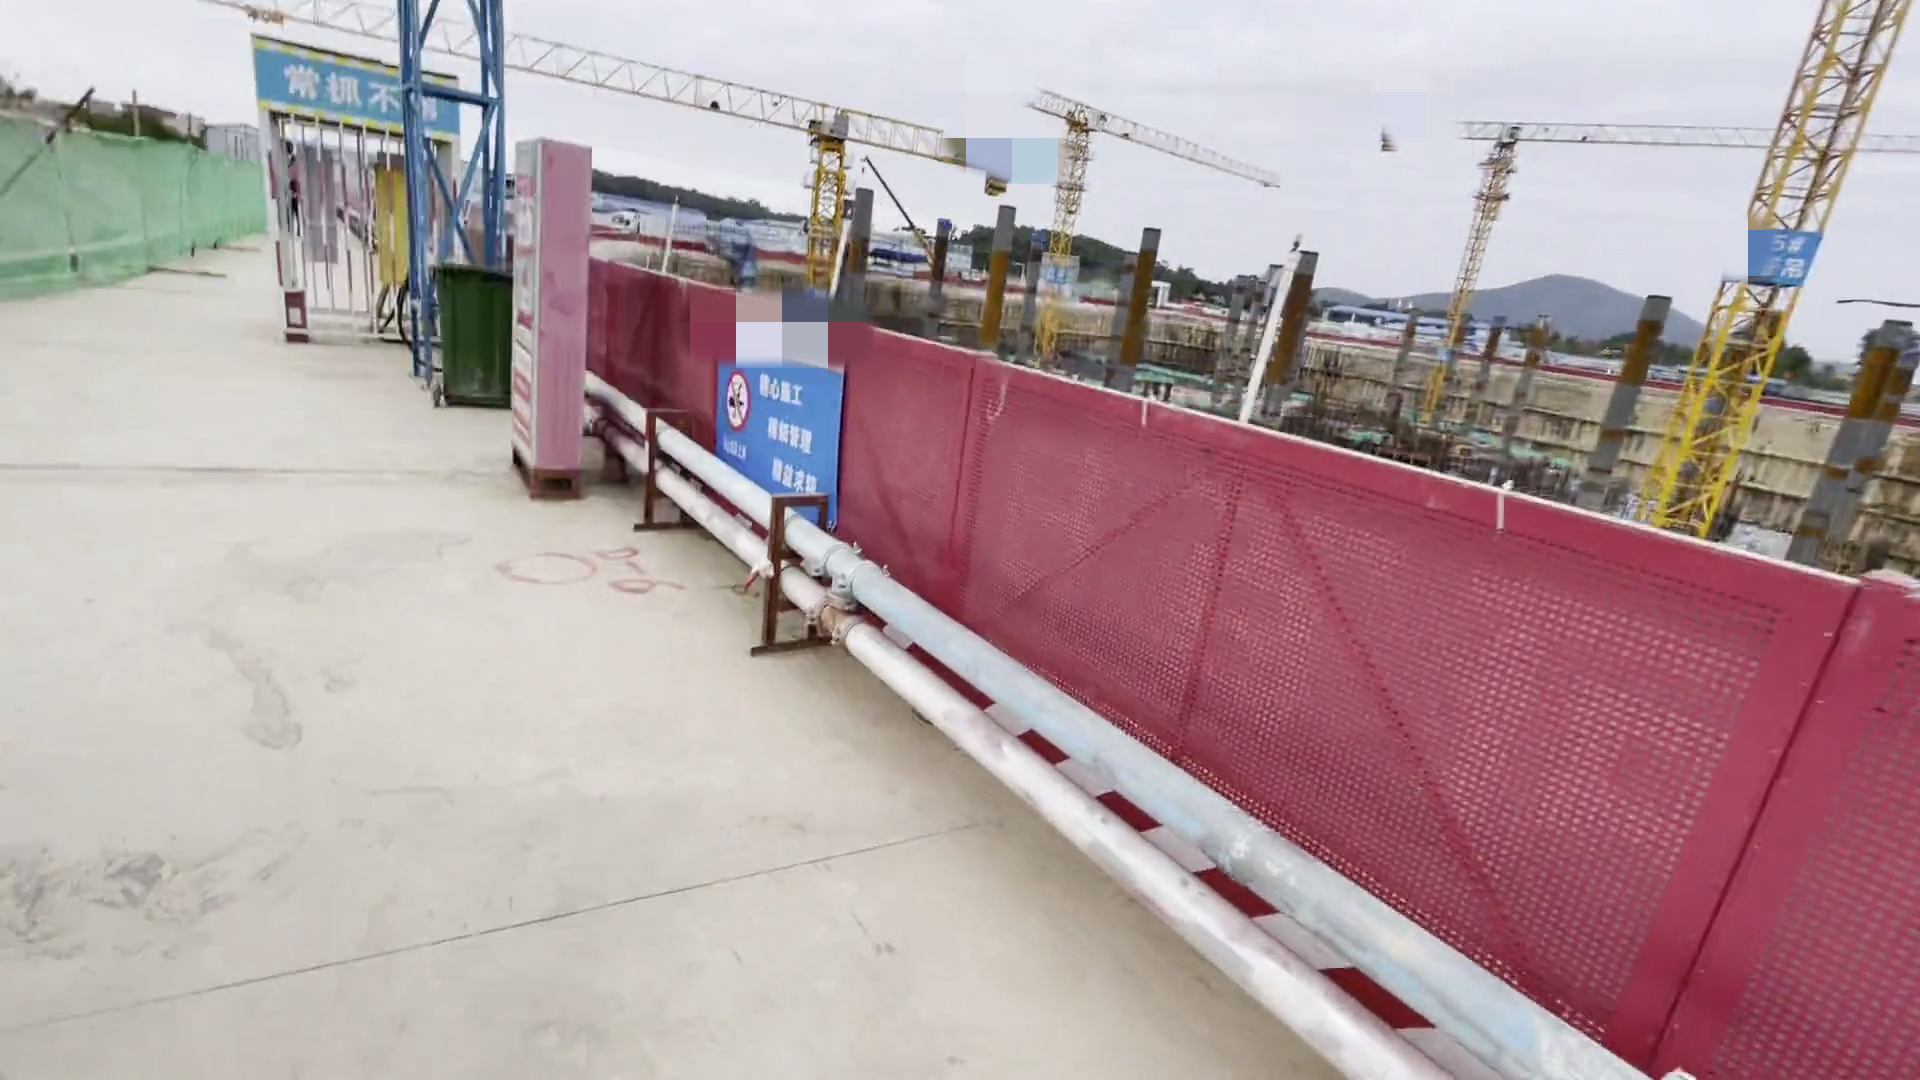ebox: (376, 152, 431, 301)
fence: (531, 248, 1859, 1059)
slogan: (717, 316, 837, 522), (262, 49, 469, 146)
